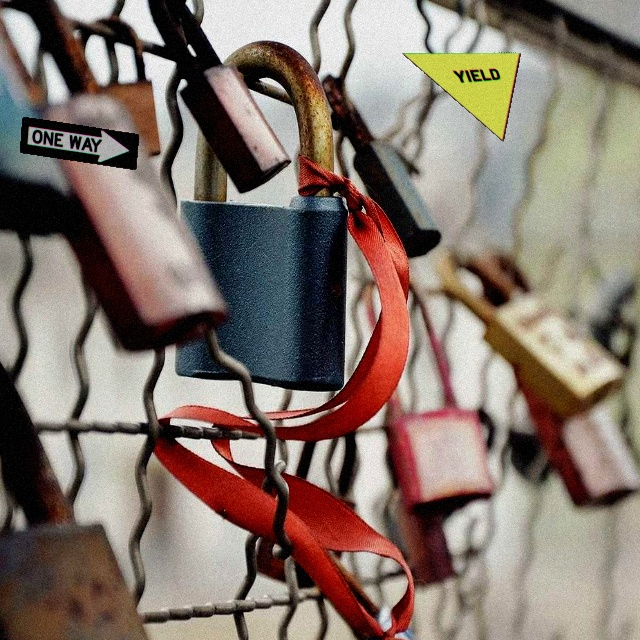ONE_WAY_ right: (19, 116, 138, 170)
YIELD: (401, 52, 521, 142)
